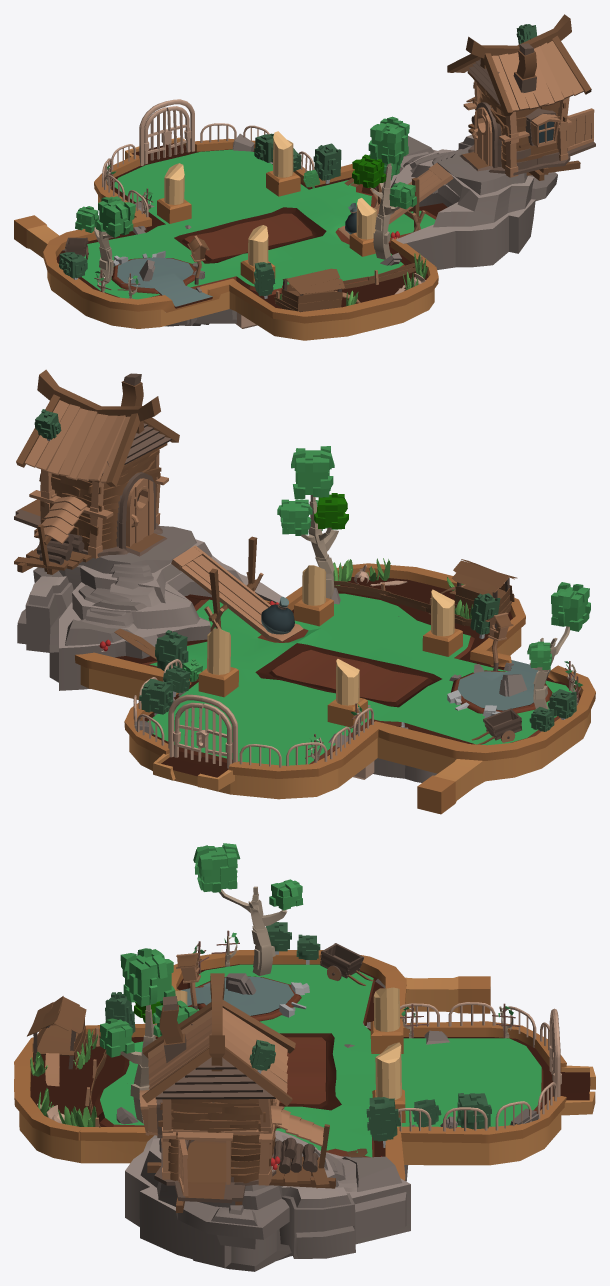
The model's file is segment 3 wipwap puzzel test.fbx.
3 views of the same model, one above another, from view 1: azimuth 30°, elevation 25°; view 2: azimuth 150°, elevation 25°; view 3: azimuth 270°, elevation 25° (orthographic). The views are drawn at different scales.
Parts seen in each view (by area): view 1: segment_3, wipwap, voordeur_tuinhuisje, linker_tuinhekdeur1, rechter_tuinhekdeur; view 2: segment_3, wipwap, voordeur_tuinhuisje, linker_tuinhekdeur1, rechter_tuinhekdeur, vuilniszak; view 3: segment_3.
Part boxes in pixels (bbox=[...]): segment_3: bbox=[14, 14, 595, 340]; wipwap: bbox=[338, 163, 453, 239]; voordeur_tuinhuisje: bbox=[472, 107, 492, 166]; linker_tuinhekdeur1: bbox=[161, 106, 191, 156]; rechter_tuinhekdeur: bbox=[144, 107, 166, 164]; segment_3: bbox=[14, 369, 595, 814]; wipwap: bbox=[171, 545, 303, 642]; voordeur_tuinhuisje: bbox=[126, 478, 153, 546]; linker_tuinhekdeur1: bbox=[173, 702, 208, 761]; rechter_tuinhekdeur: bbox=[203, 703, 232, 768]; vuilniszak: bbox=[261, 596, 294, 634]; segment_3: bbox=[14, 843, 595, 1271].
Bounding box in the file's own units: 33.96 × 15.68 × 26.84.
